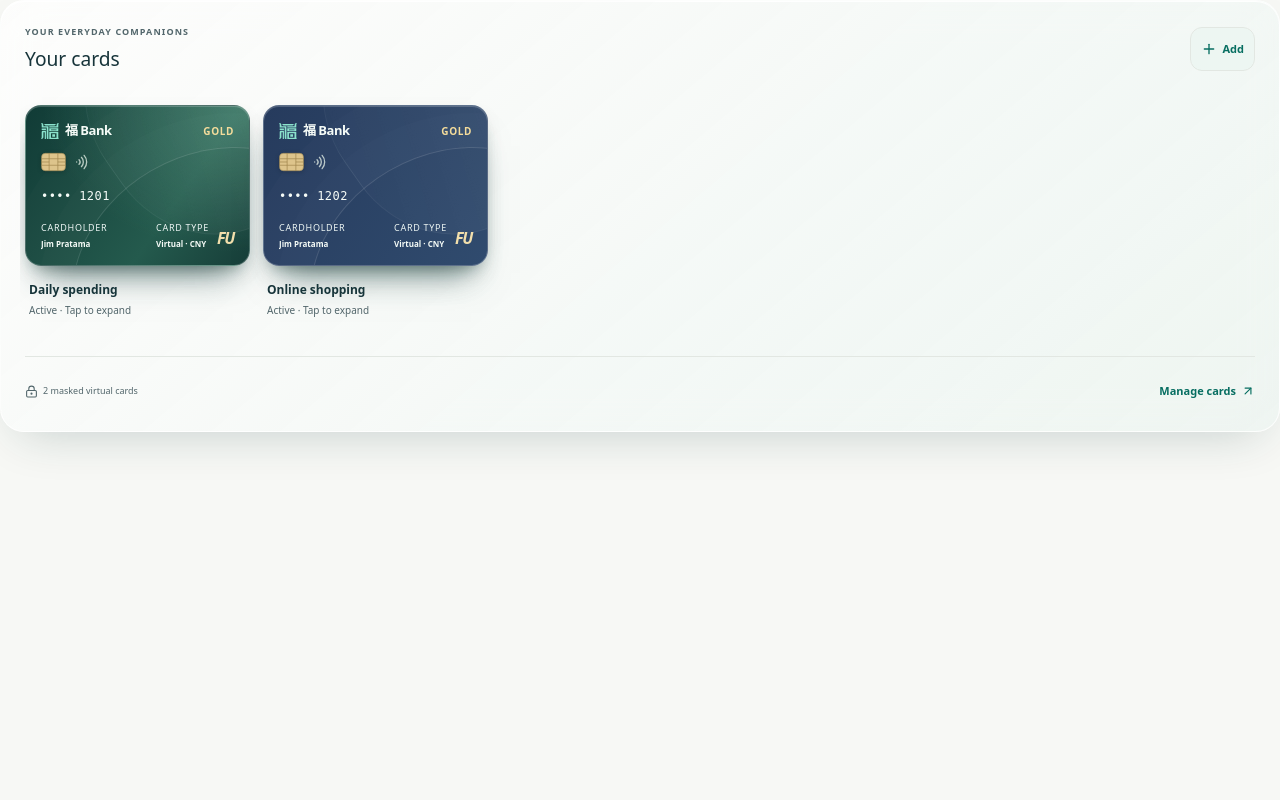
Test: adds a new virtual card only after confirmation
The image size is (1280, 800).
Check: the number of buttons named "View daily spending card ending 1201" is 2, box [25,105,250,318]; [263,105,488,318]
Click the button with aria-label "Add virtual card": [1223, 49] box [1190,27,1255,71]
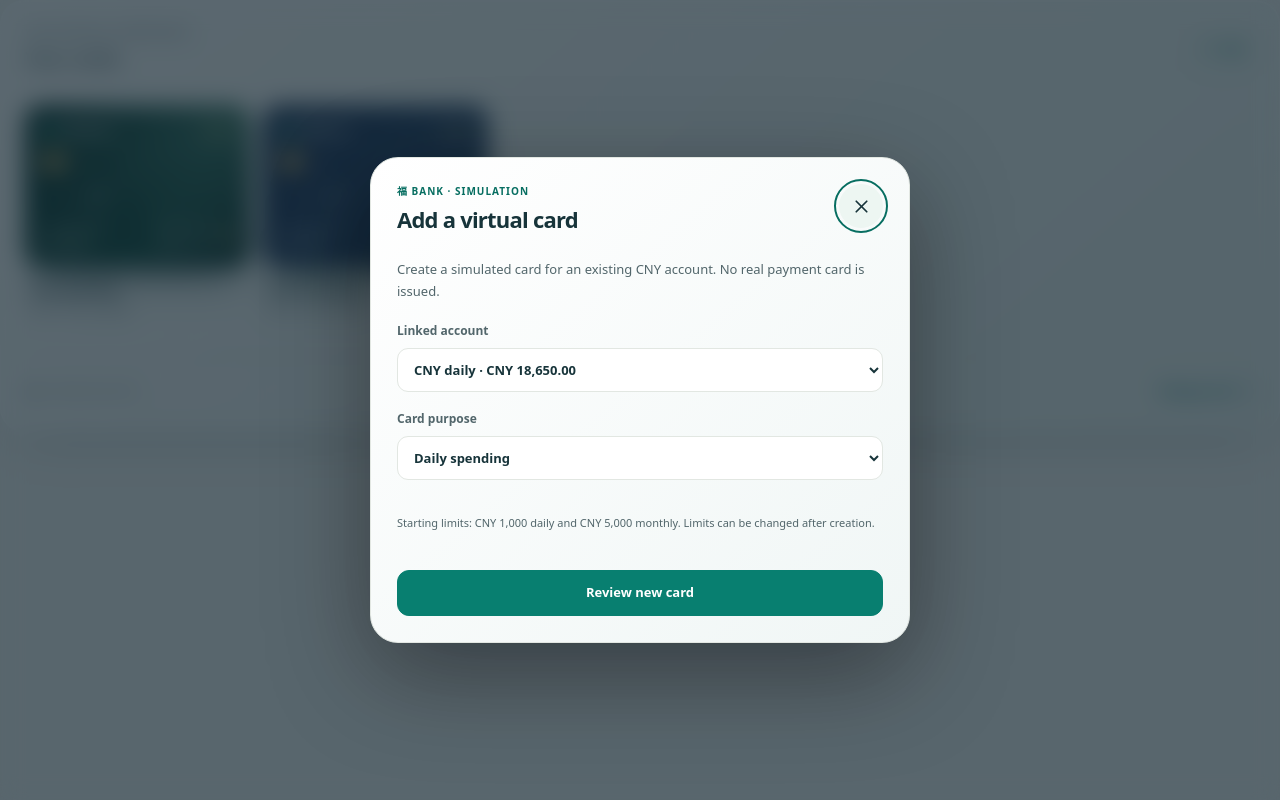
Click the button "Review new card": [640, 593] box [397,570,883,616]
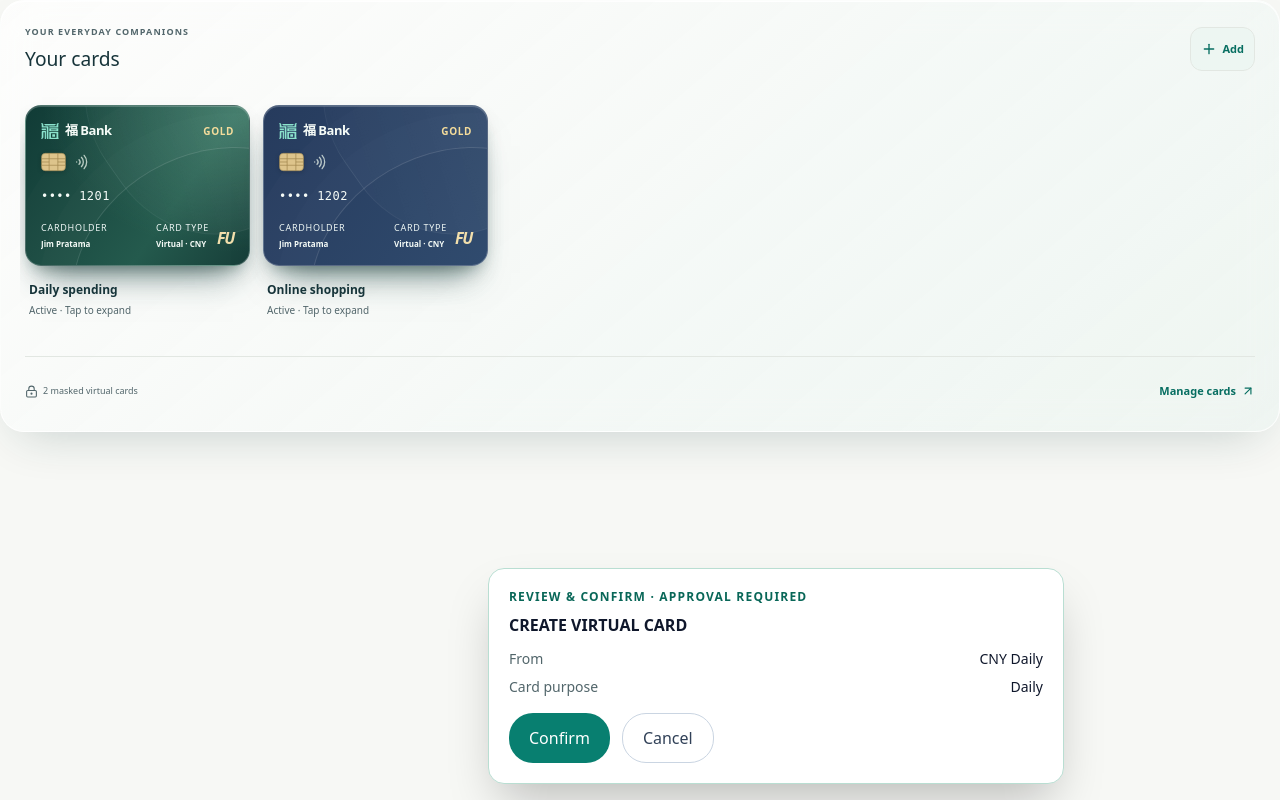
Check: the number of buttons named "View daily spending card ending 1201" is 2, box [25,105,250,318]; [263,105,488,318]
Click the button "Confirm": [559, 738] box [509,713,610,763]
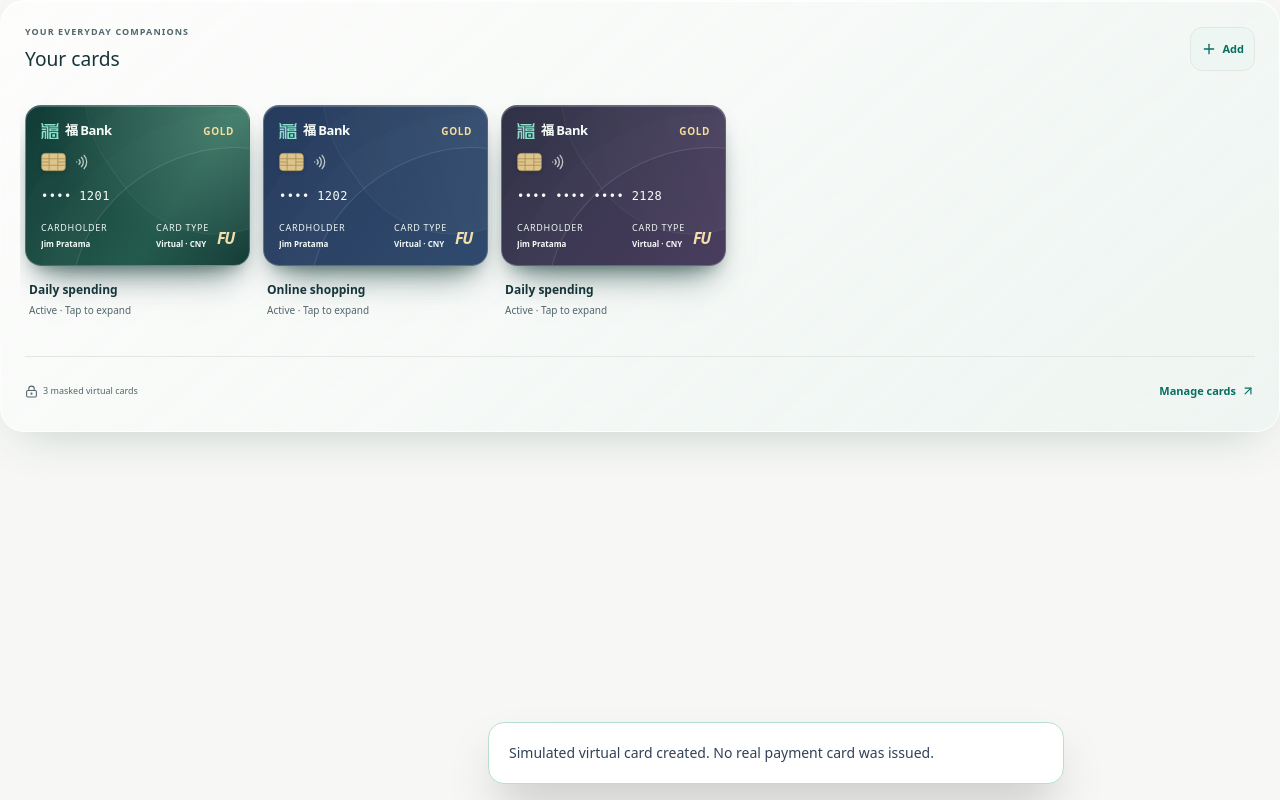
Check: the number of buttons named "View daily spending card ending 1201" is 3, box [25,105,250,318]; [263,105,488,318]; [501,105,726,318]
